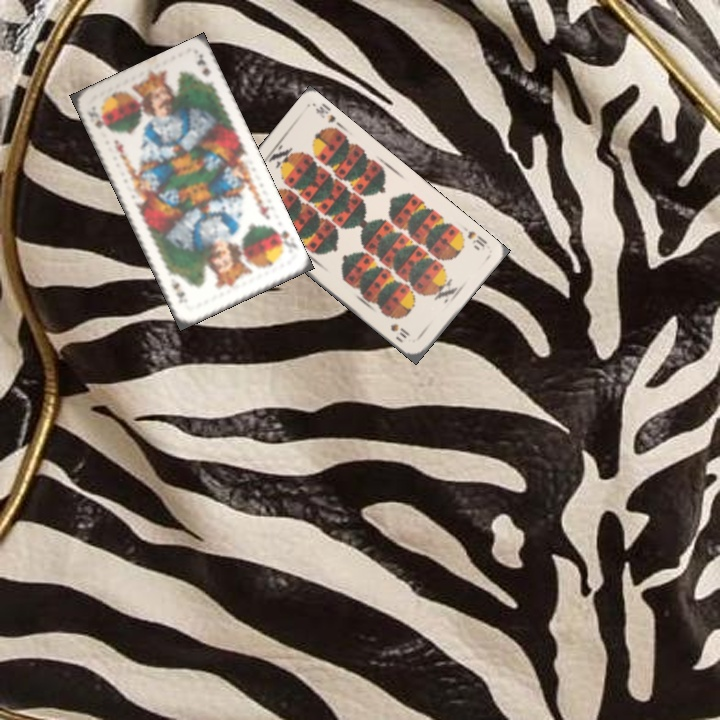S10: (463, 227, 490, 253)
SK: (269, 224, 299, 251), (86, 110, 111, 133)
